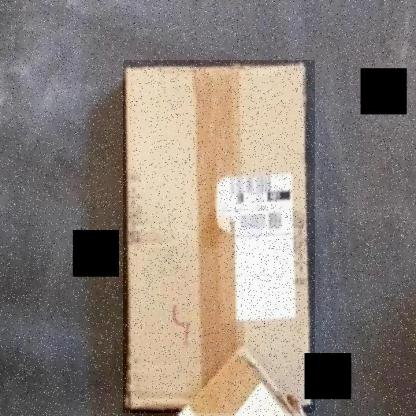box: (123, 60, 315, 413)
